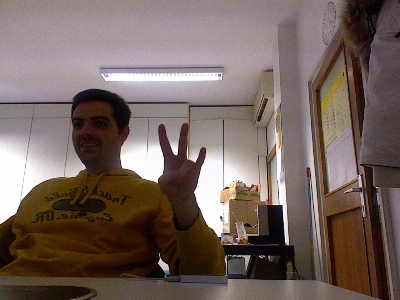观音: (156, 122, 206, 202)
